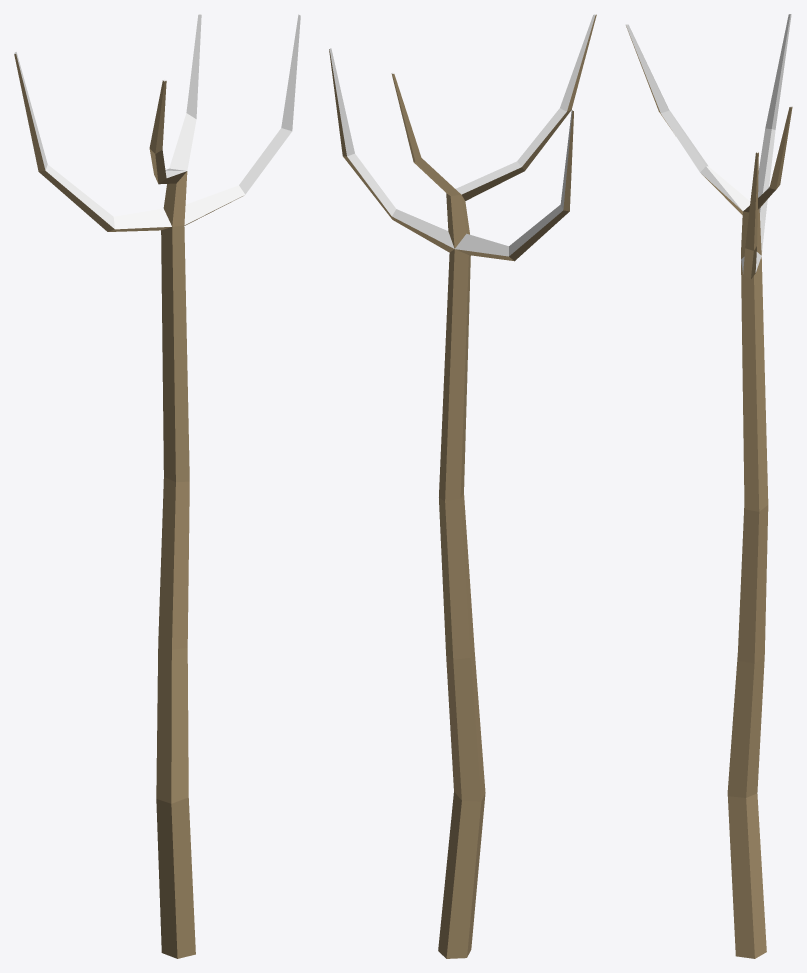
The model's file is Acacia_Tree_NoLeaves_m_Snow_04.fbx.
3 views of the same model, side by side, from view 1: azimuth 30°, elevation 25°; view 2: azimuth 150°, elevation 25°; view 3: azimuth 270°, elevation 25° (orthographic). The views are drawn at different scales.
Parts seen in each view (by area): view 1: Acacia_Tree_NoLeaves_m_Snow_04; view 2: Acacia_Tree_NoLeaves_m_Snow_04; view 3: Acacia_Tree_NoLeaves_m_Snow_04.
Part boxes in pixels (bbox=[...]): Acacia_Tree_NoLeaves_m_Snow_04: bbox=[14, 14, 300, 958]; Acacia_Tree_NoLeaves_m_Snow_04: bbox=[329, 14, 596, 958]; Acacia_Tree_NoLeaves_m_Snow_04: bbox=[625, 14, 792, 958].
Bounding box in the file's own units: 276 × 916 × 156.
